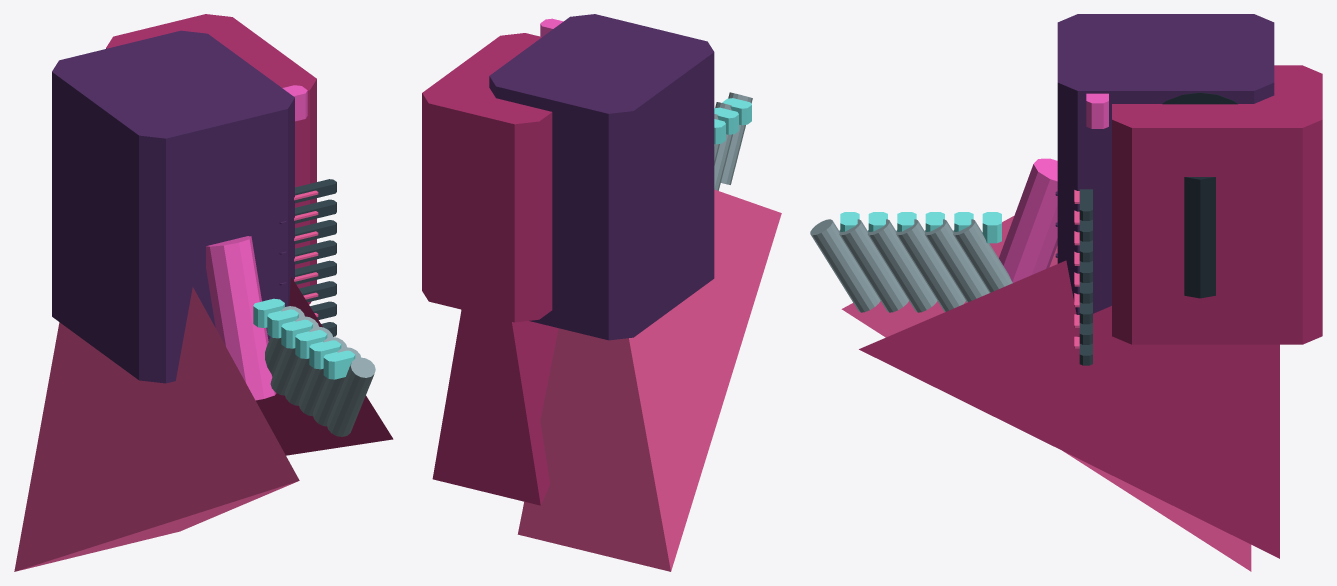
The model's file is enemy_striker_4k_forearm_l.obj.
3 renders of one model, left to right at view 1: azimuth 30°, elevation 25°; view 2: azimuth 150°, elevation 25°; view 3: azimuth 270°, elevation 25°, orthographic. The views are drawn at different scales.
Size of the model in its own units: 0.5116 by 0.96 by 0.8995.
